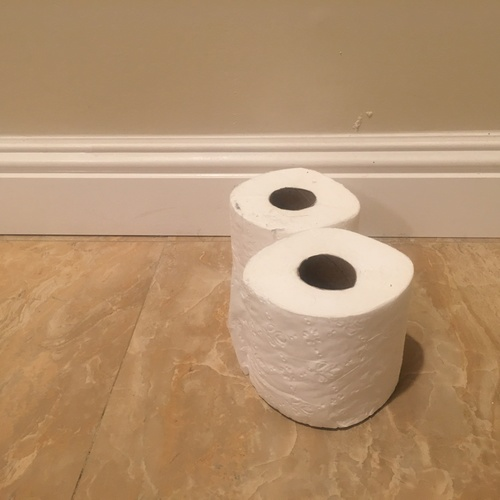roll: (243, 226, 414, 430), (229, 167, 360, 278)
